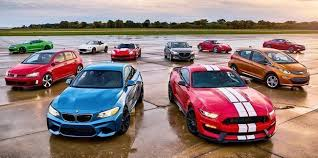car: (44, 63, 153, 154), (171, 65, 279, 152), (229, 44, 312, 101), (7, 51, 88, 95), (161, 35, 199, 65), (106, 41, 144, 66)
